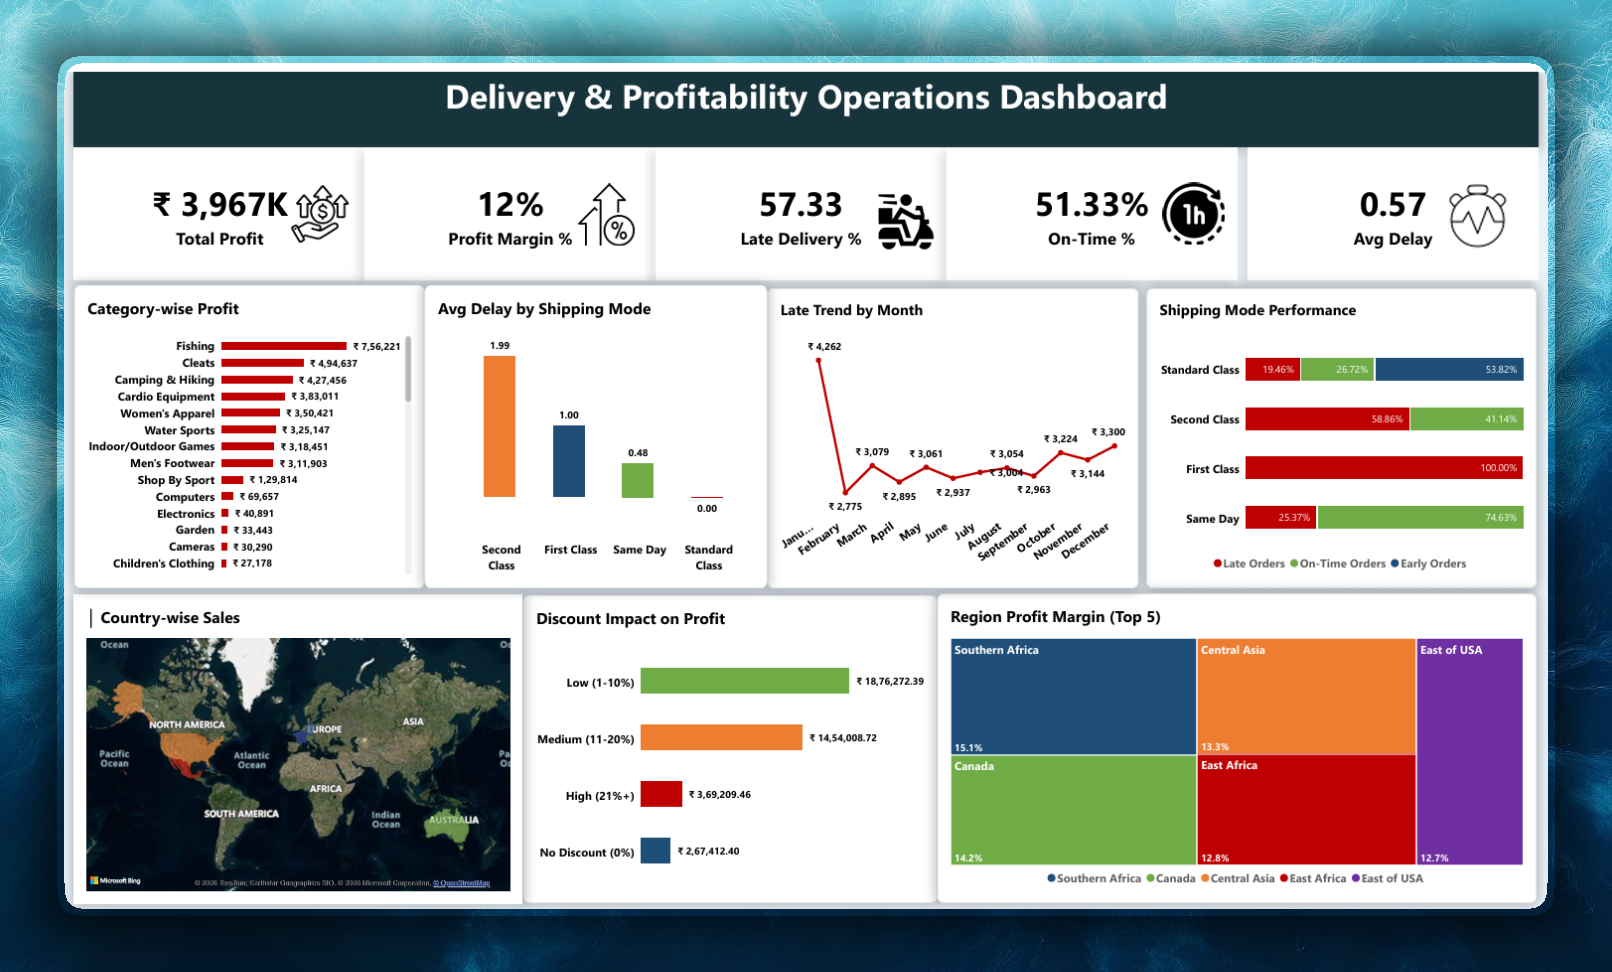

Layout of this report page (visuals, bound fields, positions):
{"tool":"powerbi","page":{"name":"\tDelivery & Profitability","canvas":[1920,1080],"ordinal":1},"visuals":[{"type":"textbox","box":[14.5,0,1876.6,95.9],"z":0},{"type":"card","fields":{"Values":["mesure_table.Total Profit"]},"box":[14.2,95.5,372.5,170.1],"z":0,"group":"g1"},{"type":"group","id":"g1","title":"Group 1","box":[14.2,95.5,1876.2,170.1],"z":1000},{"type":"card","fields":{"Values":["mesure_table.Profit Margin %"]},"box":[386.7,95.5,372.5,170.1],"z":2000,"group":"g1"},{"type":"hundredPercentStackedBarChart","title":"Shipping Mode Performance","fields":{"Y":["mesure_table.Late Orders","mesure_table.On-Time Orders","mesure_table.Early Orders"],"Category":["Orders.Shipping Mode"]},"box":[1388,276.5,499.9,384],"z":2000},{"type":"card","fields":{"Values":["mesure_table.Avg Delay"]},"box":[1517.9,95.5,372.5,170.1],"z":3000,"group":"g1"},{"type":"barChart","title":"Discount Impact on Profit","fields":{"Y":["mesure_table.Total Profit"],"Category":["Orders.Discount Range"]},"box":[589.3,668.6,530.4,394.2],"z":3000},{"type":"card","fields":{"Values":["mesure_table.Late Delivery %"]},"box":[759.3,95.5,372.5,170.1],"z":4000,"group":"g1"},{"type":"treemap","title":"Region Profit Margin (Top 5)","fields":{"Values":["mesure_table.Profit Margin %"],"Group":["Orders.Order Region"]},"box":[1119.7,666.6,768.2,396.3],"z":4000},{"type":"card","fields":{"Values":["mesure_table.On-Time %"]},"box":[1131.8,95.5,372.5,170.1],"z":5000,"group":"g1"},{"type":"lineChart","title":"Late Trend by Month","fields":{"Category":["Orders.order date (DateOrders).Variation.Date Hierarchy.Month"],"Y":["mesure_table.Late Orders"]},"box":[902.3,276.5,475.5,384],"z":5000},{"type":"filledMap","title":"│  Country-wise Sales  ","fields":{"Category":["Orders.Order Country"]},"box":[14.2,668.6,575.1,396.3],"z":6000},{"type":"clusteredBarChart","title":"Category-wise Profit","fields":{"Category":["Products.Category Name"],"Y":["mesure_table.Total Profit"]},"box":[14.2,272.3,449.1,388.1],"z":7000},{"type":"clusteredColumnChart","title":"Avg Delay by Shipping Mode","fields":{"Category":["Orders.Shipping Mode"],"Y":["mesure_table.Avg Delay"]},"box":[463.3,272.3,439,388.1],"z":8000},{"type":"image","box":[652.6,141.6,86.9,79.6],"z":11002,"group":"g1"},{"type":"image","box":[269.6,143,117.6,76],"z":12000},{"type":"image","box":[1027.9,146.6,103.2,88.7],"z":13000},{"type":"image","box":[1379,141.2,139.3,79.6],"z":14000},{"type":"image","box":[1760.8,141.2,103.2,85.1],"z":15000}]}

Visuals, with their boxes on the page's 1920x1080 design canvas (x1, y1, x2, y2). These are canvas units, not pixel positions in the 1612x972 screenshot, which may show the page scaled, cropped or inside an application window:
textbox: pyautogui.locateOnScreen(14, 0, 1891, 96)
card - mesure_table.Total Profit: pyautogui.locateOnScreen(14, 96, 387, 266)
"Group 1" group: pyautogui.locateOnScreen(14, 96, 1890, 266)
card - mesure_table.Profit Margin %: pyautogui.locateOnScreen(387, 96, 759, 266)
"Shipping Mode Performance" hundredPercentStackedBarChart: pyautogui.locateOnScreen(1388, 276, 1888, 660)
card - mesure_table.Avg Delay: pyautogui.locateOnScreen(1518, 96, 1890, 266)
"Discount Impact on Profit" barChart: pyautogui.locateOnScreen(589, 669, 1120, 1063)
card - mesure_table.Late Delivery %: pyautogui.locateOnScreen(759, 96, 1132, 266)
"Region Profit Margin (Top 5)" treemap: pyautogui.locateOnScreen(1120, 667, 1888, 1063)
card - mesure_table.On-Time %: pyautogui.locateOnScreen(1132, 96, 1504, 266)
"Late Trend by Month" lineChart: pyautogui.locateOnScreen(902, 276, 1378, 660)
"│  Country-wise Sales  " filledMap: pyautogui.locateOnScreen(14, 669, 589, 1065)
"Category-wise Profit" clusteredBarChart: pyautogui.locateOnScreen(14, 272, 463, 660)
"Avg Delay by Shipping Mode" clusteredColumnChart: pyautogui.locateOnScreen(463, 272, 902, 660)
image: pyautogui.locateOnScreen(653, 142, 740, 221)
image: pyautogui.locateOnScreen(270, 143, 387, 219)
image: pyautogui.locateOnScreen(1028, 147, 1131, 235)
image: pyautogui.locateOnScreen(1379, 141, 1518, 221)
image: pyautogui.locateOnScreen(1761, 141, 1864, 226)
